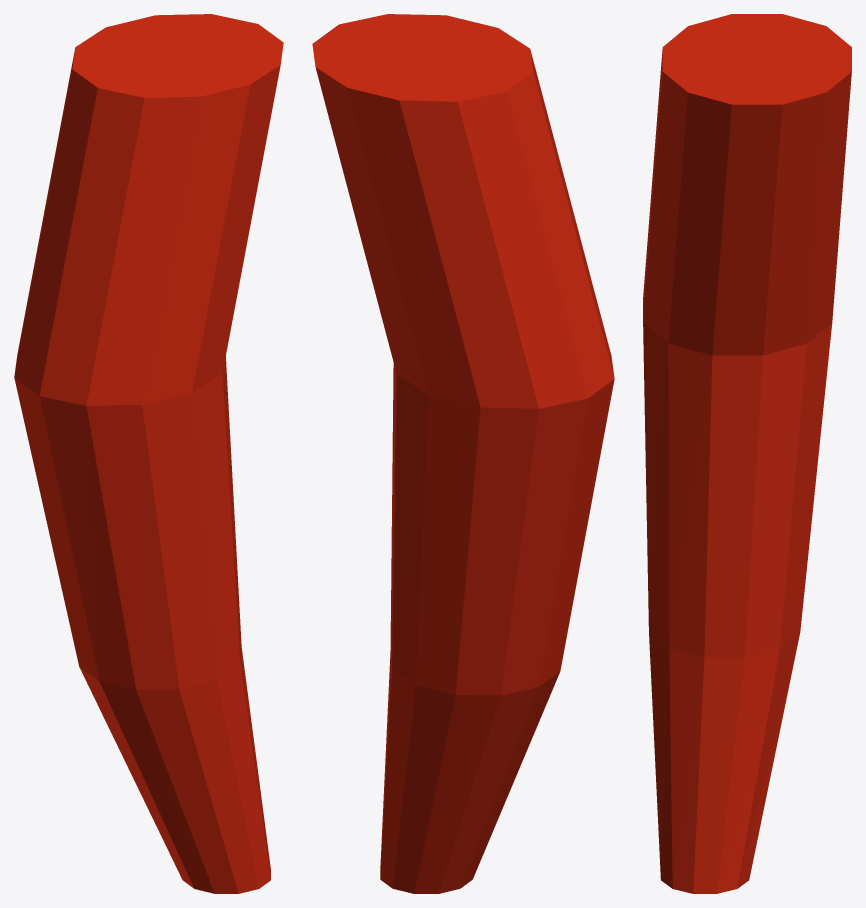
The model's file is HairLock_L.obj.
The picture shows the model from 3 angles, left to right: view 1: azimuth 30°, elevation 25°; view 2: azimuth 150°, elevation 25°; view 3: azimuth 270°, elevation 25°; orthographic projection. The views are drawn at different scales.
Parts seen in each view (by area): view 1: HairLock_L; view 2: HairLock_L; view 3: HairLock_L.
Boxes of the visible parts, box(x1,y1,x2,y2) form: HairLock_L: box(14, 14, 283, 893); HairLock_L: box(312, 14, 614, 893); HairLock_L: box(643, 14, 851, 893).
Size of the model in its own units: 0.2242 by 0.68 by 0.1599.
